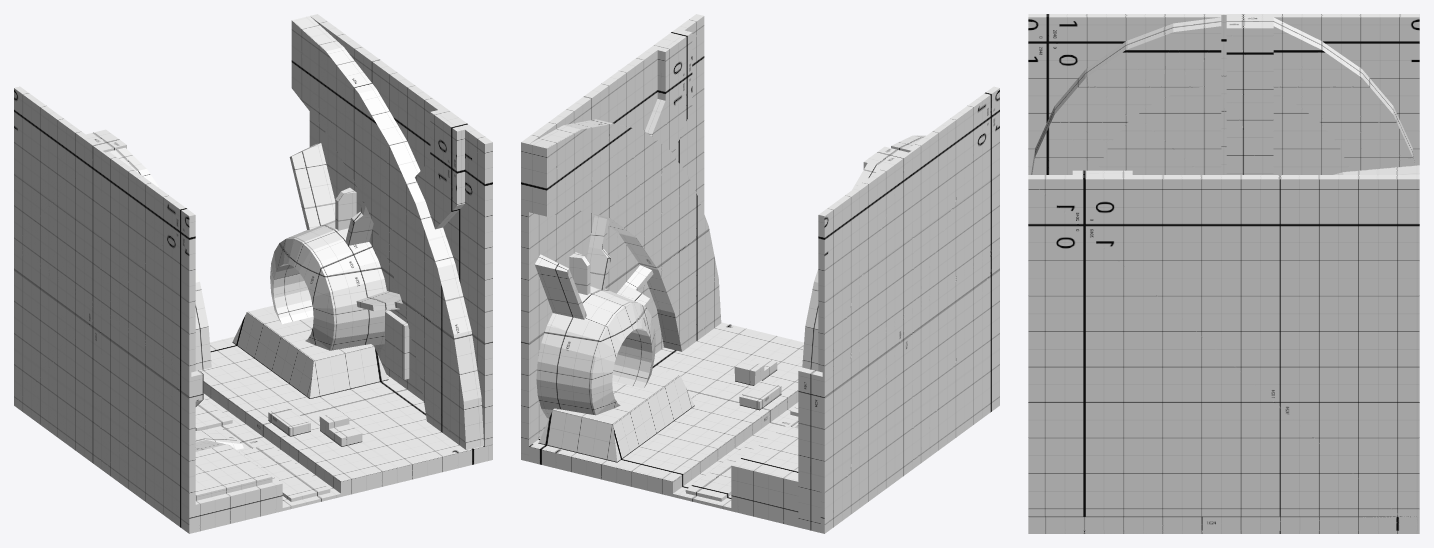
File: Level3.fbx
3 renders of one model, left to right at view 1: azimuth 30°, elevation 25°; view 2: azimuth 150°, elevation 25°; view 3: azimuth 270°, elevation 25°, orthographic. The views are drawn at different scales.
Visible parts, largest first — view 1: 3.001; view 2: 3.001; view 3: 3.001.
Boxes of the visible parts, x1,y1,x2,y2 form: 3.001: (14,14,492,533); 3.001: (521,14,999,533); 3.001: (1028,14,1419,533).
Bounding box in the file's own units: 7500 × 7500 × 7500.
